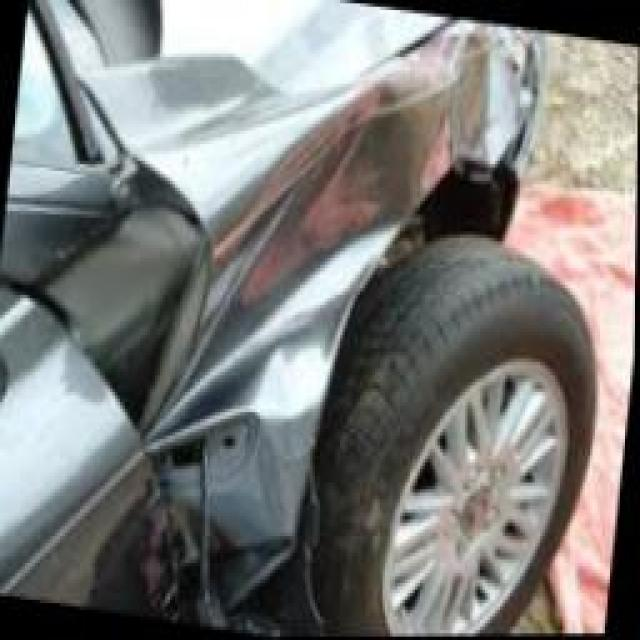Fender: (88, 37, 517, 590)
